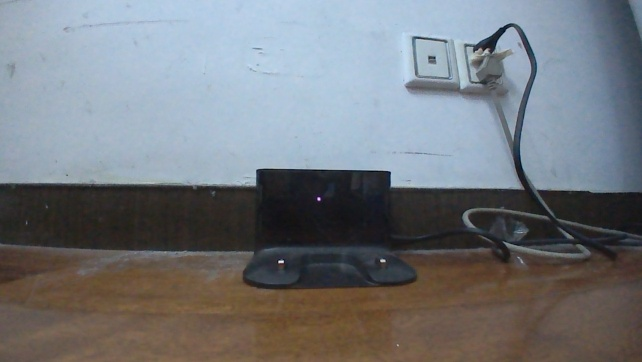charger: (241, 168, 415, 290)
wire: (391, 21, 630, 262), (460, 55, 641, 264)
